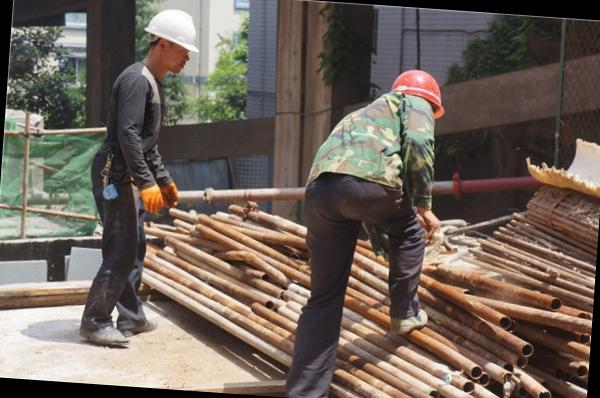helmet: (386, 69, 447, 120), (144, 7, 206, 52)
no_wear: (317, 90, 436, 189), (98, 66, 168, 204)
